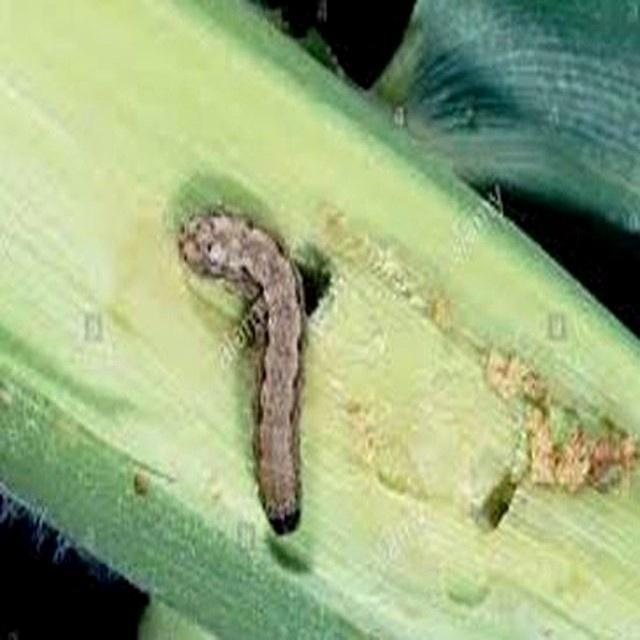worm: (1, 1, 640, 640), (176, 208, 309, 536)
